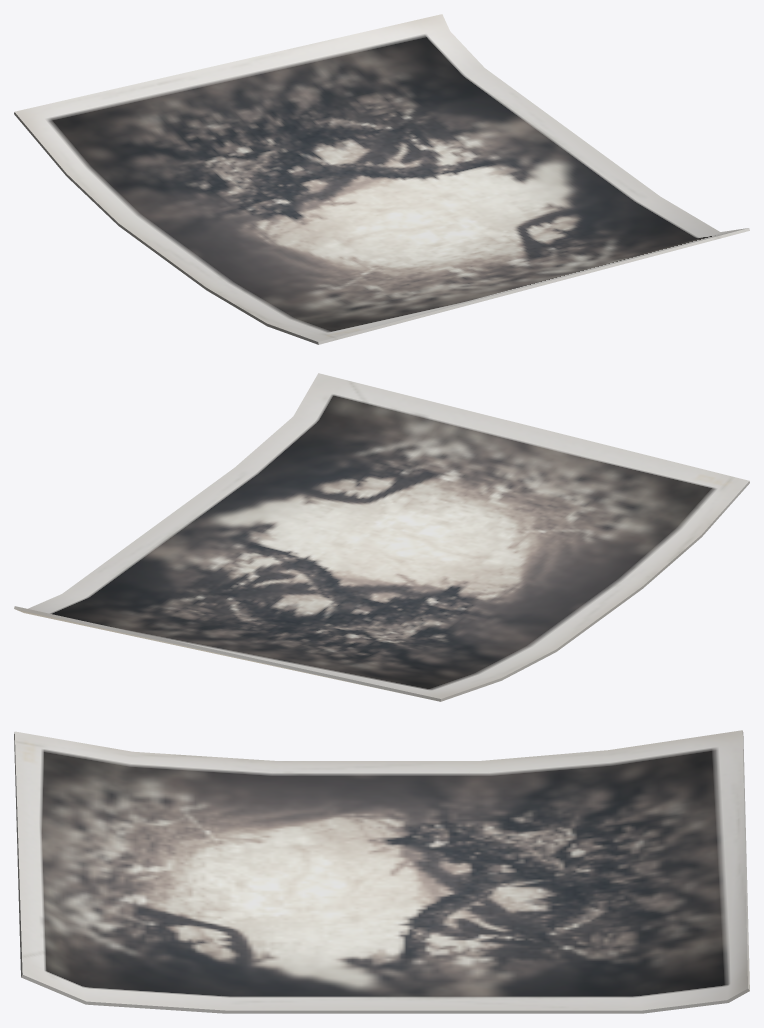
File: Picture_6_Small.FBX
3 renders of one model, top to bottom at view 1: azimuth 30°, elevation 25°; view 2: azimuth 150°, elevation 25°; view 3: azimuth 270°, elevation 25°, orthographic. The views are drawn at different scales.
Visible parts, largest first — view 1: Picture_6_Small; view 2: Picture_6_Small; view 3: Picture_6_Small.
Boxes of the visible parts, x1,y1,x2,y2 form: Picture_6_Small: [14, 14, 749, 344]; Picture_6_Small: [14, 373, 749, 701]; Picture_6_Small: [14, 730, 749, 1013].
Bounding box in the file's own units: 16.87 × 1.27 × 20.88.
